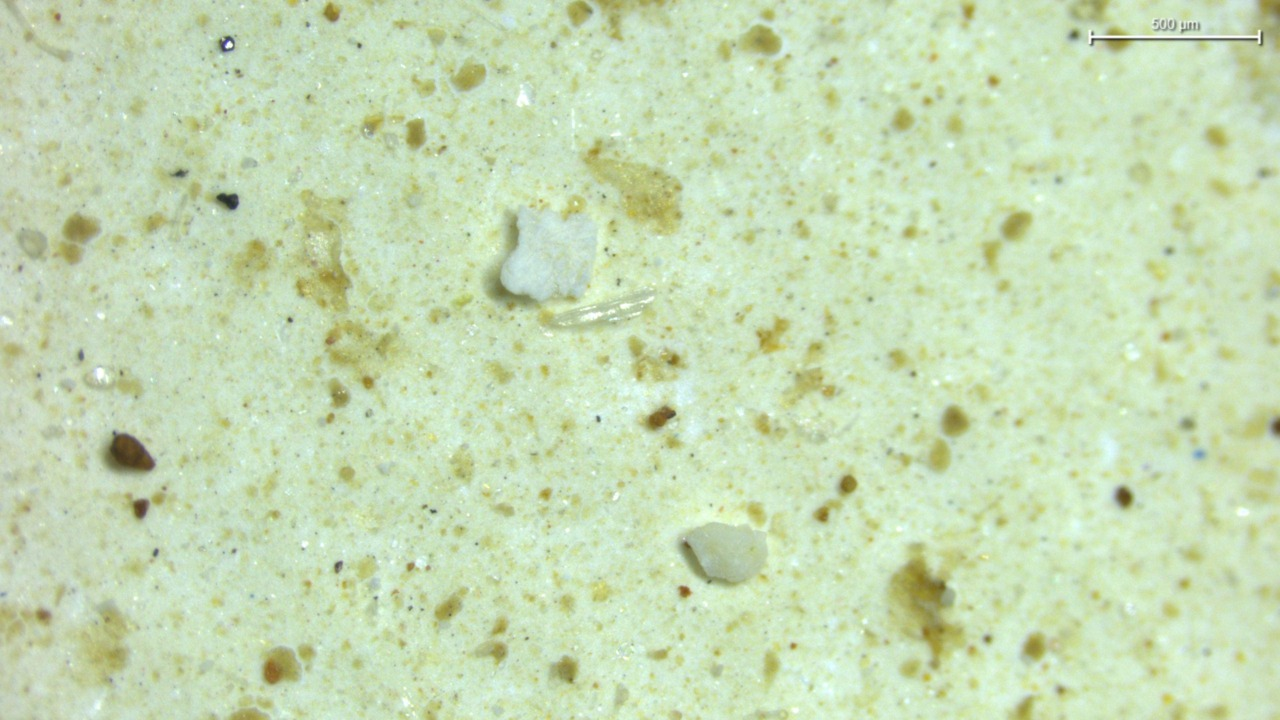microplastic_fragment: (500, 207, 597, 301), (682, 522, 767, 582)
